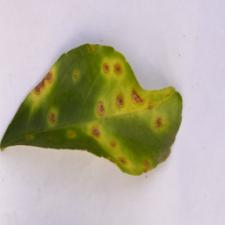Canker: (7, 44, 184, 170)
